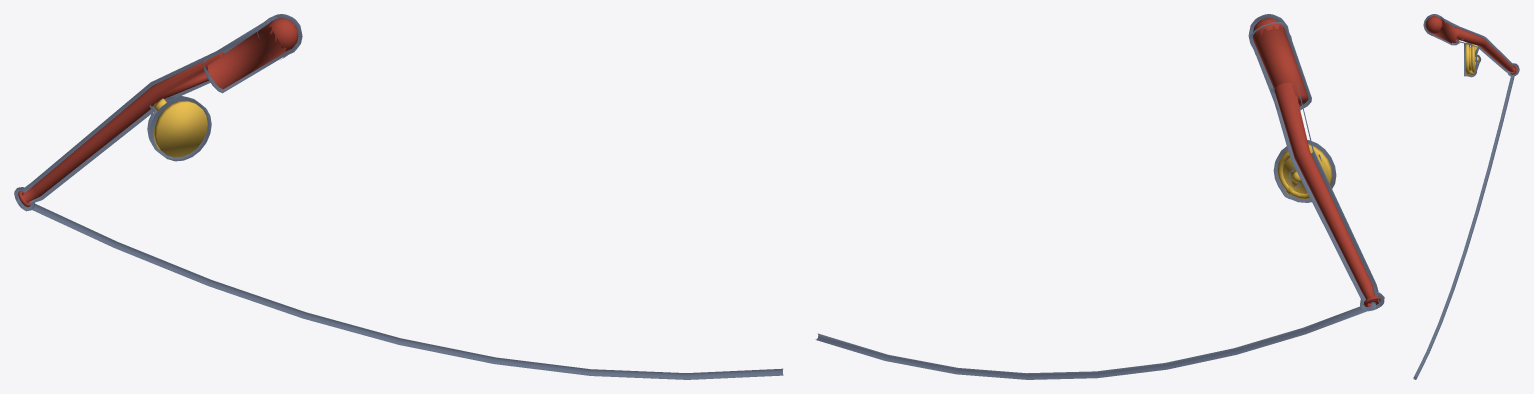
Rendered from cloud-rod.glb.
3 renders of one model, left to right at view 1: azimuth 30°, elevation 25°; view 2: azimuth 150°, elevation 25°; view 3: azimuth 270°, elevation 25°, orthographic. The views are drawn at different scales.
Parts seen in each view (by area): view 1: Rod, Line, RodOutline, Reel, ReelOutline; view 2: Rod, Line, RodOutline, Reel, ReelOutline; view 3: Line, Rod, RodOutline, Reel, ReelOutline.
Boxes of the visible parts, x1,y1,x2,y2 form: Rod: [18, 18, 298, 207]; Line: [21, 202, 783, 379]; RodOutline: [14, 14, 302, 211]; Reel: [153, 98, 207, 157]; ReelOutline: [147, 96, 211, 161]; Rod: [1252, 18, 1380, 306]; Line: [815, 302, 1376, 379]; RodOutline: [1248, 14, 1384, 311]; Reel: [1277, 144, 1332, 199]; ReelOutline: [1273, 140, 1336, 202]; Line: [1413, 72, 1514, 379]; Rod: [1425, 16, 1517, 74]; RodOutline: [1423, 14, 1519, 76]; Reel: [1465, 44, 1478, 74]; ReelOutline: [1464, 42, 1481, 77].
Size of the model in its own units: 1.91 by 1.25 by 0.499.
